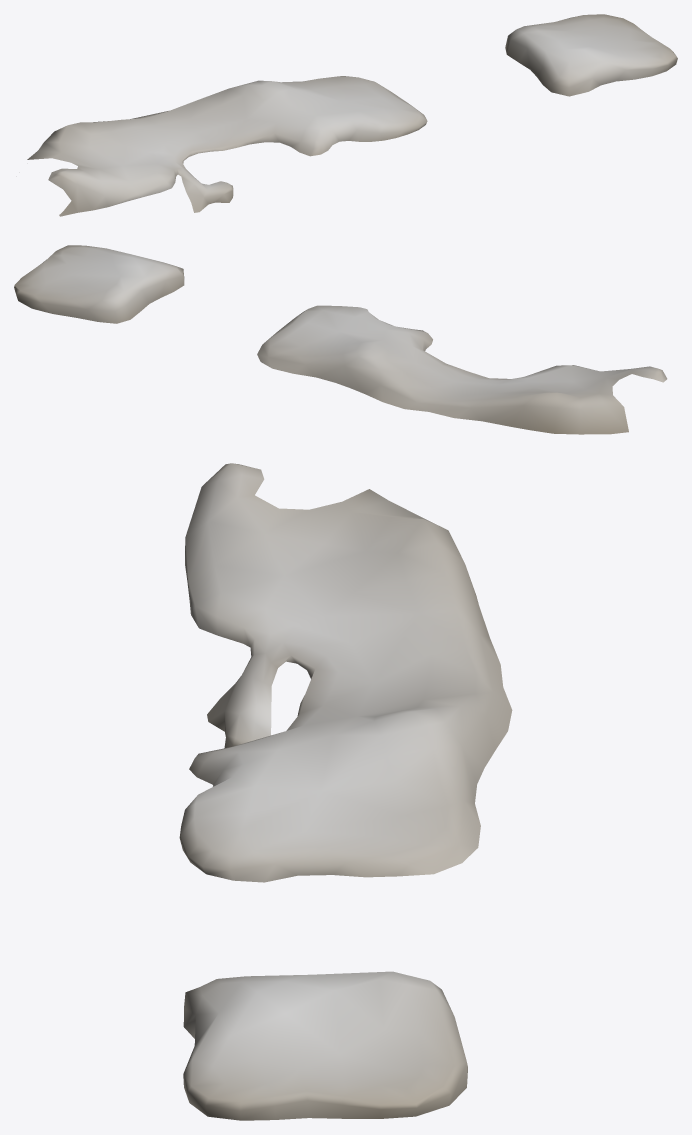
File: PeglantisSand.glb
The picture shows the model from 3 angles, top to bottom: view 1: azimuth 30°, elevation 25°; view 2: azimuth 150°, elevation 25°; view 3: azimuth 270°, elevation 25°; orthographic projection. The views are drawn at different scales.
Parts seen in each view (by area): view 1: PeglantisSand; view 2: PeglantisSand; view 3: PeglantisSand.
Boxes of the visible parts, <box> form: PeglantisSand: <box>27,14,677,216</box>; PeglantisSand: <box>14,245,667,434</box>; PeglantisSand: <box>179,463,512,1120</box>.
Bounding box in the file's own units: 21.07 × 2.24 × 4.95.
